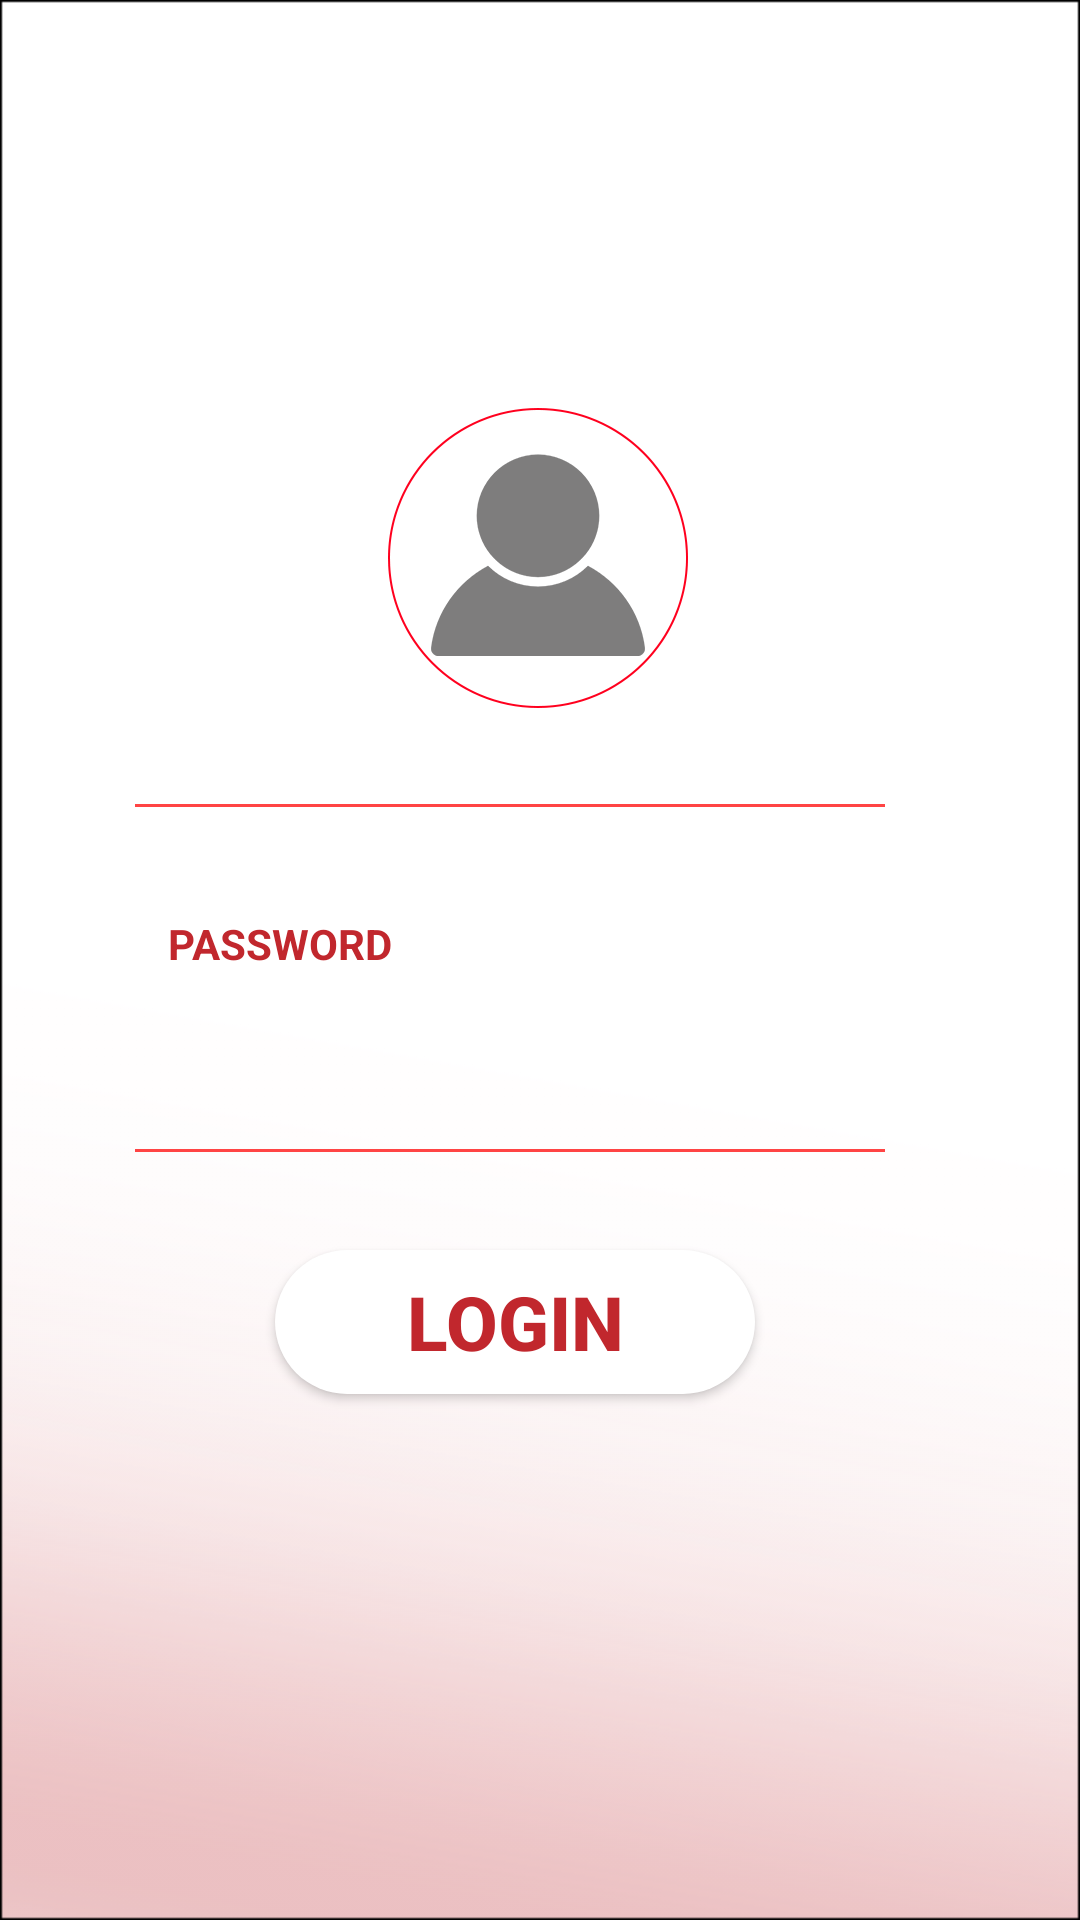

Screen size 1080 x 1920. Icon name, then its box in pixels as (x1, y1, x2, y2):
blank prof pic: (388, 408, 688, 708)
